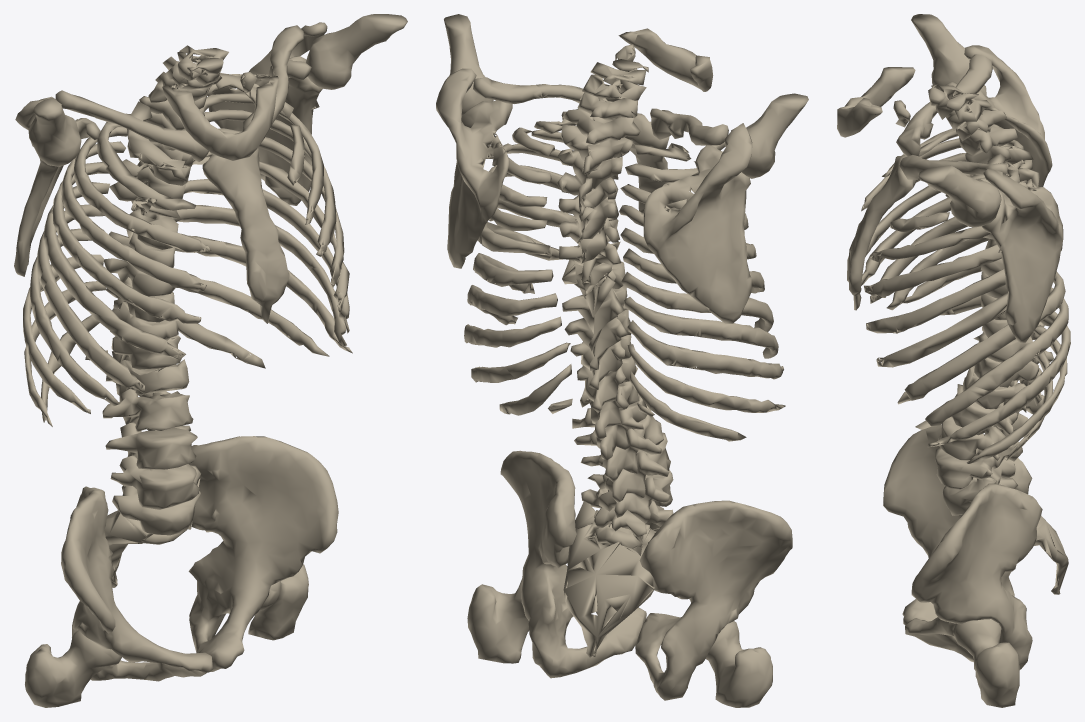
The model's file is tsd_s0196_older_adult_female.skeletal.LOD4.glb.
The picture shows the model from 3 angles, left to right: view 1: azimuth 30°, elevation 25°; view 2: azimuth 150°, elevation 25°; view 3: azimuth 270°, elevation 25°; orthographic projection. The views are drawn at different scales.
Visible parts, largest first — view 1: TSD_S0196.OLDER_ADULT.FEMALE.SKELETAL.HIP_BONE_OS_COXAE.L, TSD_S0196.OLDER_ADULT.FEMALE.SKELETAL.HIP_BONE_OS_COXAE.R, TSD_S0196.OLDER_ADULT.FEMALE.SKELETAL.STERNUM, TSD_S0196.OLDER_ADULT.FEMALE.SKELETAL.SCAPULA.L, TSD_S0196.OLDER_ADULT.FEMALE.SKELETAL.FEMUR.R, TSD_S0196.OLDER_ADULT.FEMALE.SKELETAL.SKULL, TSD_S0196.OLDER_ADULT.FEMALE.SKELETAL.HUMERUS.L, TSD_S0196.OLDER_ADULT.FEMALE.SKELETAL.RIB_6.R, TSD_S0196.OLDER_ADULT.FEMALE.SKELETAL.RIB_5.R, TSD_S0196.OLDER_ADULT.FEMALE.SKELETAL.RIB_7.R, TSD_S0196.OLDER_ADULT.FEMALE.SKELETAL.RIB_4.R, TSD_S0196.OLDER_ADULT.FEMALE.SKELETAL.RIB_3.R (+36 smaller); view 2: TSD_S0196.OLDER_ADULT.FEMALE.SKELETAL.HIP_BONE_OS_COXAE.R, TSD_S0196.OLDER_ADULT.FEMALE.SKELETAL.SCAPULA.R, TSD_S0196.OLDER_ADULT.FEMALE.SKELETAL.HIP_BONE_OS_COXAE.L, TSD_S0196.OLDER_ADULT.FEMALE.SKELETAL.SCAPULA.L, TSD_S0196.OLDER_ADULT.FEMALE.SKELETAL.SACRUM, TSD_S0196.OLDER_ADULT.FEMALE.SKELETAL.FEMUR.L, TSD_S0196.OLDER_ADULT.FEMALE.SKELETAL.FEMUR.R, TSD_S0196.OLDER_ADULT.FEMALE.SKELETAL.RIB_8.R, TSD_S0196.OLDER_ADULT.FEMALE.SKELETAL.SKULL, TSD_S0196.OLDER_ADULT.FEMALE.SKELETAL.RIB_9.R, TSD_S0196.OLDER_ADULT.FEMALE.SKELETAL.HUMERUS.R, TSD_S0196.OLDER_ADULT.FEMALE.SKELETAL.RIB_10.R (+41 smaller); view 3: TSD_S0196.OLDER_ADULT.FEMALE.SKELETAL.HIP_BONE_OS_COXAE.L, TSD_S0196.OLDER_ADULT.FEMALE.SKELETAL.SCAPULA.L, TSD_S0196.OLDER_ADULT.FEMALE.SKELETAL.HIP_BONE_OS_COXAE.R, TSD_S0196.OLDER_ADULT.FEMALE.SKELETAL.SCAPULA.R, TSD_S0196.OLDER_ADULT.FEMALE.SKELETAL.FEMUR.L, TSD_S0196.OLDER_ADULT.FEMALE.SKELETAL.RIB_8.L, TSD_S0196.OLDER_ADULT.FEMALE.SKELETAL.HUMERUS.L, TSD_S0196.OLDER_ADULT.FEMALE.SKELETAL.RIB_7.L, TSD_S0196.OLDER_ADULT.FEMALE.SKELETAL.STERNUM, TSD_S0196.OLDER_ADULT.FEMALE.SKELETAL.SKULL, TSD_S0196.OLDER_ADULT.FEMALE.SKELETAL.RIB_9.L, TSD_S0196.OLDER_ADULT.FEMALE.SKELETAL.HUMERUS.R (+29 smaller).
Part boxes in pixels (bbox=[...]): TSD_S0196.OLDER_ADULT.FEMALE.SKELETAL.HIP_BONE_OS_COXAE.L: bbox=[188, 436, 338, 671]; TSD_S0196.OLDER_ADULT.FEMALE.SKELETAL.HIP_BONE_OS_COXAE.R: bbox=[61, 486, 213, 681]; TSD_S0196.OLDER_ADULT.FEMALE.SKELETAL.STERNUM: bbox=[202, 148, 289, 323]; TSD_S0196.OLDER_ADULT.FEMALE.SKELETAL.SCAPULA.L: bbox=[208, 22, 327, 205]; TSD_S0196.OLDER_ADULT.FEMALE.SKELETAL.FEMUR.R: bbox=[25, 630, 121, 707]; TSD_S0196.OLDER_ADULT.FEMALE.SKELETAL.SKULL: bbox=[162, 72, 278, 160]; TSD_S0196.OLDER_ADULT.FEMALE.SKELETAL.HUMERUS.L: bbox=[306, 14, 407, 89]; TSD_S0196.OLDER_ADULT.FEMALE.SKELETAL.RIB_6.R: bbox=[43, 182, 185, 359]; TSD_S0196.OLDER_ADULT.FEMALE.SKELETAL.RIB_5.R: bbox=[52, 162, 201, 323]; TSD_S0196.OLDER_ADULT.FEMALE.SKELETAL.RIB_7.R: bbox=[37, 204, 144, 393]; TSD_S0196.OLDER_ADULT.FEMALE.SKELETAL.RIB_4.R: bbox=[61, 141, 206, 291]; TSD_S0196.OLDER_ADULT.FEMALE.SKELETAL.RIB_3.R: bbox=[74, 126, 211, 252]; TSD_S0196.OLDER_ADULT.FEMALE.SKELETAL.HIP_BONE_OS_COXAE.R: bbox=[635, 500, 792, 700]; TSD_S0196.OLDER_ADULT.FEMALE.SKELETAL.SCAPULA.R: bbox=[643, 123, 752, 323]; TSD_S0196.OLDER_ADULT.FEMALE.SKELETAL.HIP_BONE_OS_COXAE.L: bbox=[500, 450, 646, 678]; TSD_S0196.OLDER_ADULT.FEMALE.SKELETAL.SCAPULA.L: bbox=[436, 68, 512, 268]; TSD_S0196.OLDER_ADULT.FEMALE.SKELETAL.SACRUM: bbox=[563, 501, 659, 657]; TSD_S0196.OLDER_ADULT.FEMALE.SKELETAL.FEMUR.L: bbox=[467, 578, 529, 663]; TSD_S0196.OLDER_ADULT.FEMALE.SKELETAL.FEMUR.R: bbox=[705, 621, 772, 707]; TSD_S0196.OLDER_ADULT.FEMALE.SKELETAL.RIB_8.R: bbox=[624, 297, 778, 358]; TSD_S0196.OLDER_ADULT.FEMALE.SKELETAL.SKULL: bbox=[615, 28, 713, 91]; TSD_S0196.OLDER_ADULT.FEMALE.SKELETAL.RIB_9.R: bbox=[627, 320, 783, 379]; TSD_S0196.OLDER_ADULT.FEMALE.SKELETAL.HUMERUS.R: bbox=[742, 93, 808, 178]; TSD_S0196.OLDER_ADULT.FEMALE.SKELETAL.RIB_10.R: bbox=[627, 344, 785, 412]; TSD_S0196.OLDER_ADULT.FEMALE.SKELETAL.HIP_BONE_OS_COXAE.L: bbox=[905, 483, 1042, 669]; TSD_S0196.OLDER_ADULT.FEMALE.SKELETAL.SCAPULA.L: bbox=[975, 169, 1063, 343]; TSD_S0196.OLDER_ADULT.FEMALE.SKELETAL.HIP_BONE_OS_COXAE.R: bbox=[883, 424, 1032, 624]; TSD_S0196.OLDER_ADULT.FEMALE.SKELETAL.SCAPULA.R: bbox=[945, 45, 1052, 186]; TSD_S0196.OLDER_ADULT.FEMALE.SKELETAL.FEMUR.L: bbox=[953, 619, 1019, 707]; TSD_S0196.OLDER_ADULT.FEMALE.SKELETAL.RIB_8.L: bbox=[915, 287, 1068, 429]; TSD_S0196.OLDER_ADULT.FEMALE.SKELETAL.HUMERUS.L: bbox=[918, 165, 1001, 227]; TSD_S0196.OLDER_ADULT.FEMALE.SKELETAL.RIB_7.L: bbox=[897, 271, 1065, 404]; TSD_S0196.OLDER_ADULT.FEMALE.SKELETAL.STERNUM: bbox=[847, 154, 916, 310]; TSD_S0196.OLDER_ADULT.FEMALE.SKELETAL.SKULL: bbox=[837, 67, 915, 137]; TSD_S0196.OLDER_ADULT.FEMALE.SKELETAL.RIB_9.L: bbox=[927, 311, 1070, 447]; TSD_S0196.OLDER_ADULT.FEMALE.SKELETAL.HUMERUS.R: bbox=[911, 14, 970, 88].
Size of the model in its own units: 0.3492 by 0.5512 by 0.2076.
